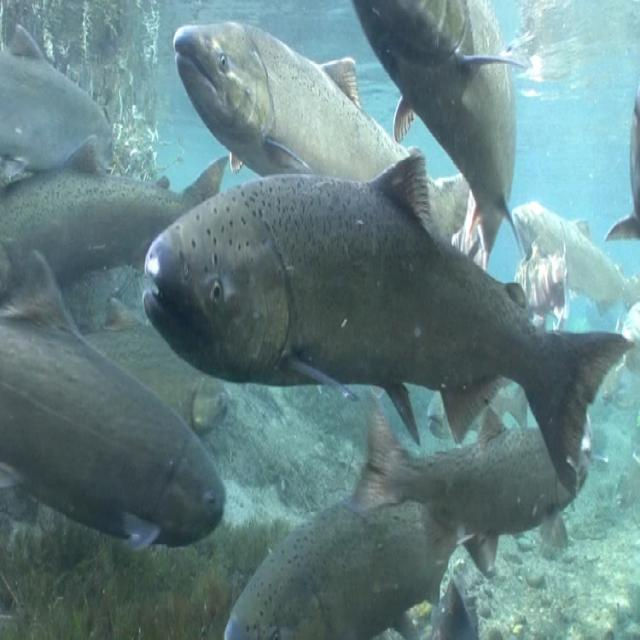salmon: (138, 140, 607, 506), (159, 4, 481, 280)
